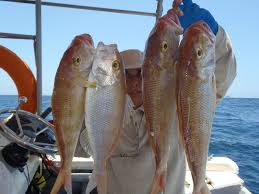Ikan Kerisi: (177, 22, 234, 194), (44, 27, 94, 181), (142, 17, 184, 192), (86, 36, 126, 184)
